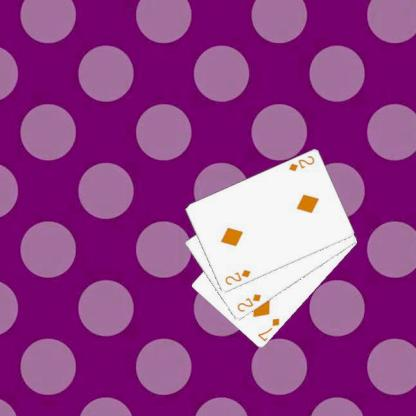2D: (233, 291, 262, 314), (222, 266, 252, 287), (286, 153, 316, 173)
7D: (255, 315, 281, 342)
